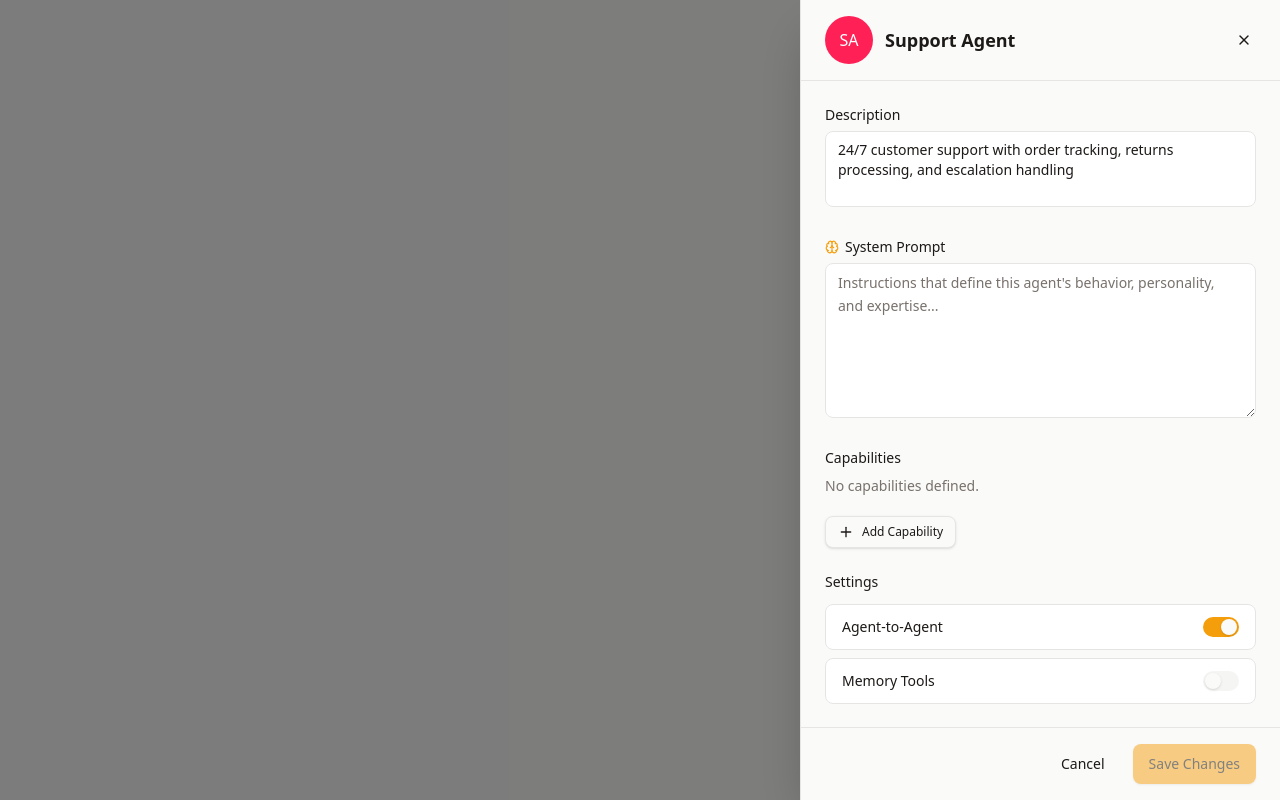
AgentEditorSheet unsaved changes › closing via the X › asks first when there are unsaved changes
Type " edited" into the text box labelled "Description".
click(1040, 169); type(" edited")  # box [825,131,1256,207]
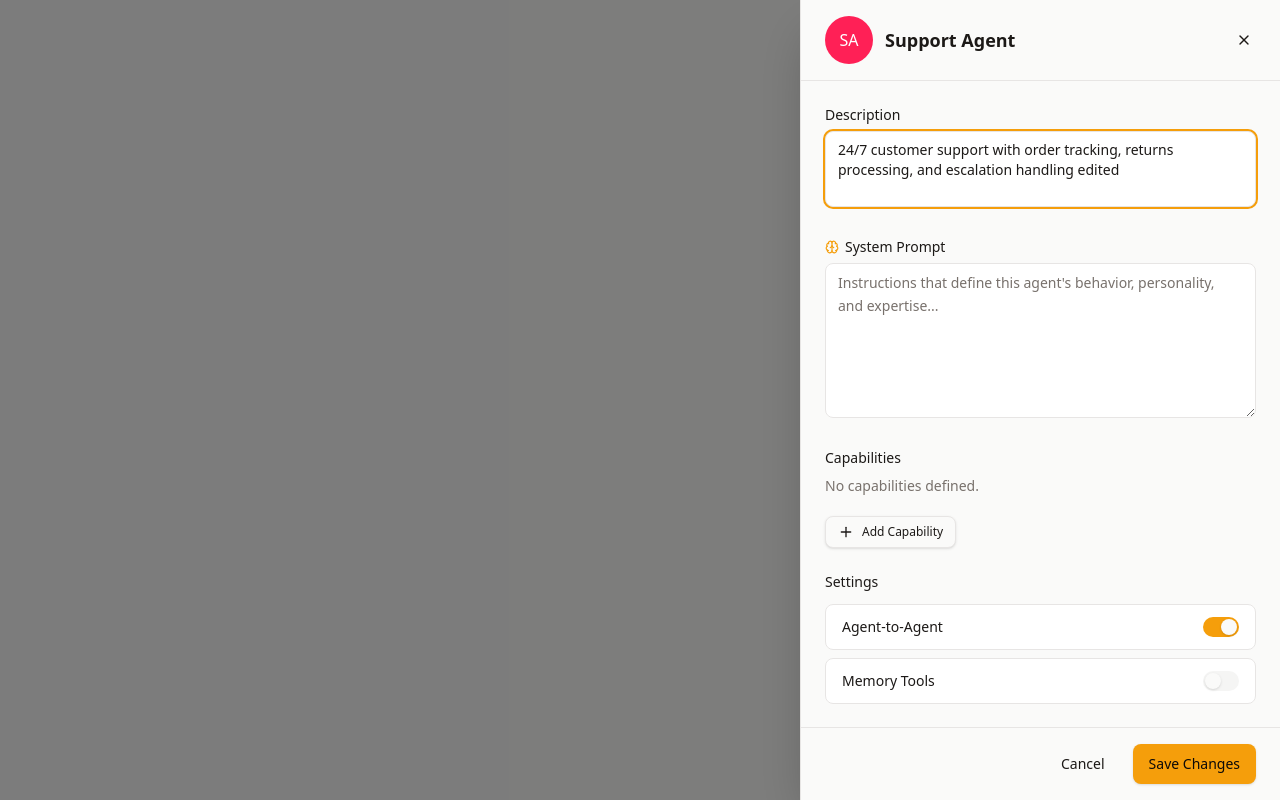
Click the button with test id "agent-editor-close".
click(1244, 40)  # box [1224,20,1264,60]
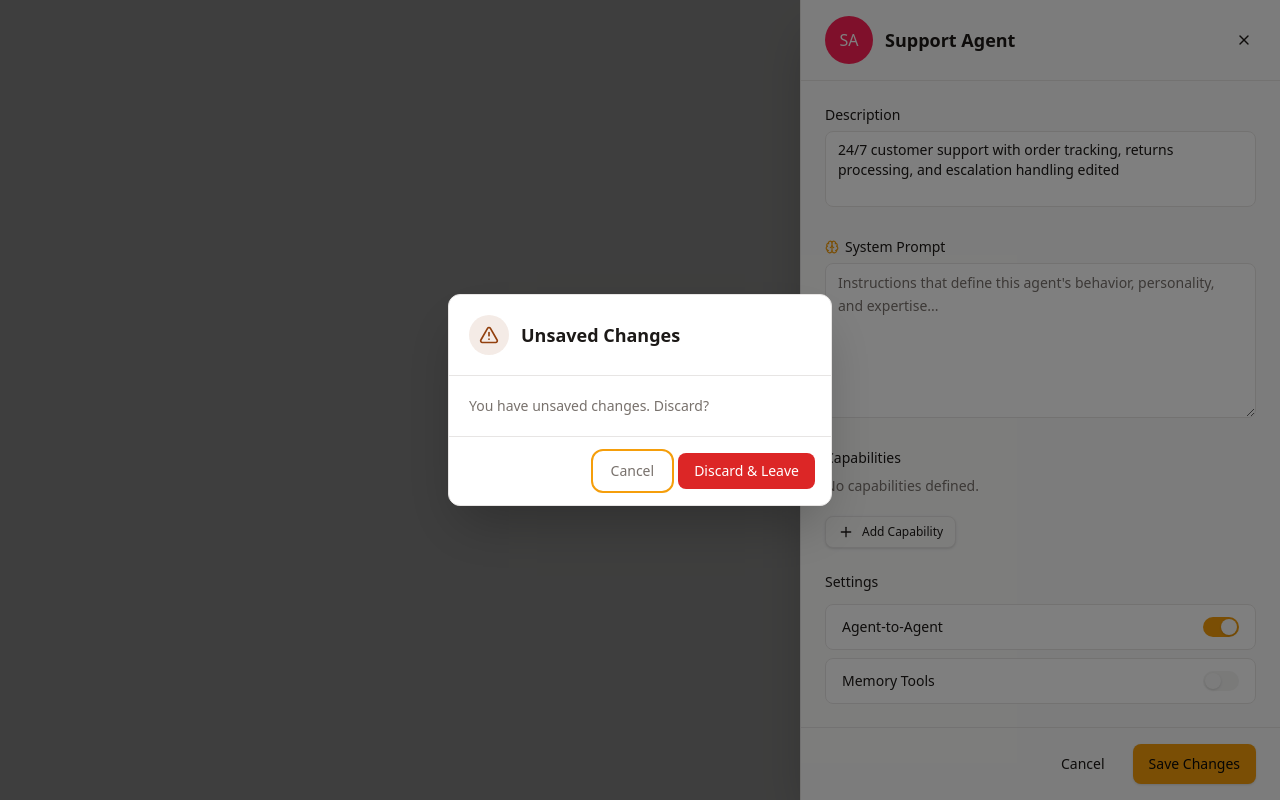
Expected: the dialog that starts with "Unsaved Changes" is shown, [448,294,832,506]
